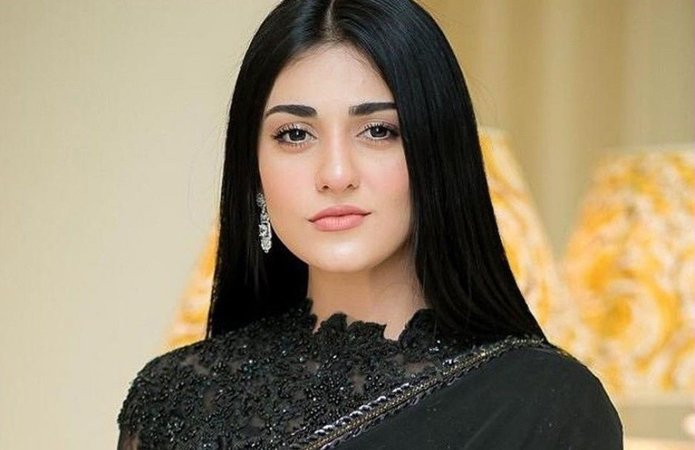NoMask: (269, 95, 402, 265)
